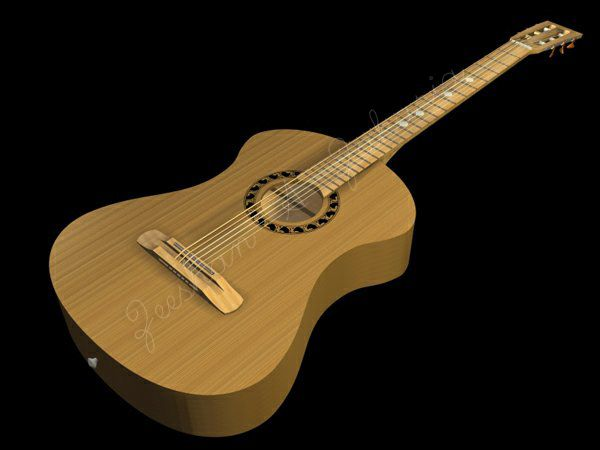guitar: (48, 18, 584, 435)
